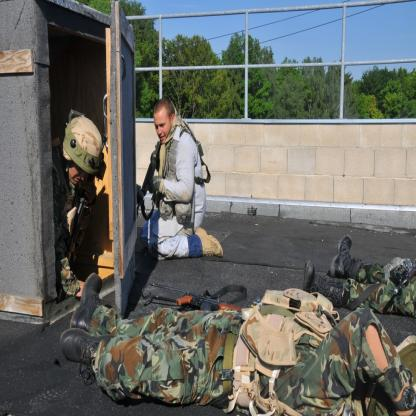Helmet: (59, 108, 104, 184)
